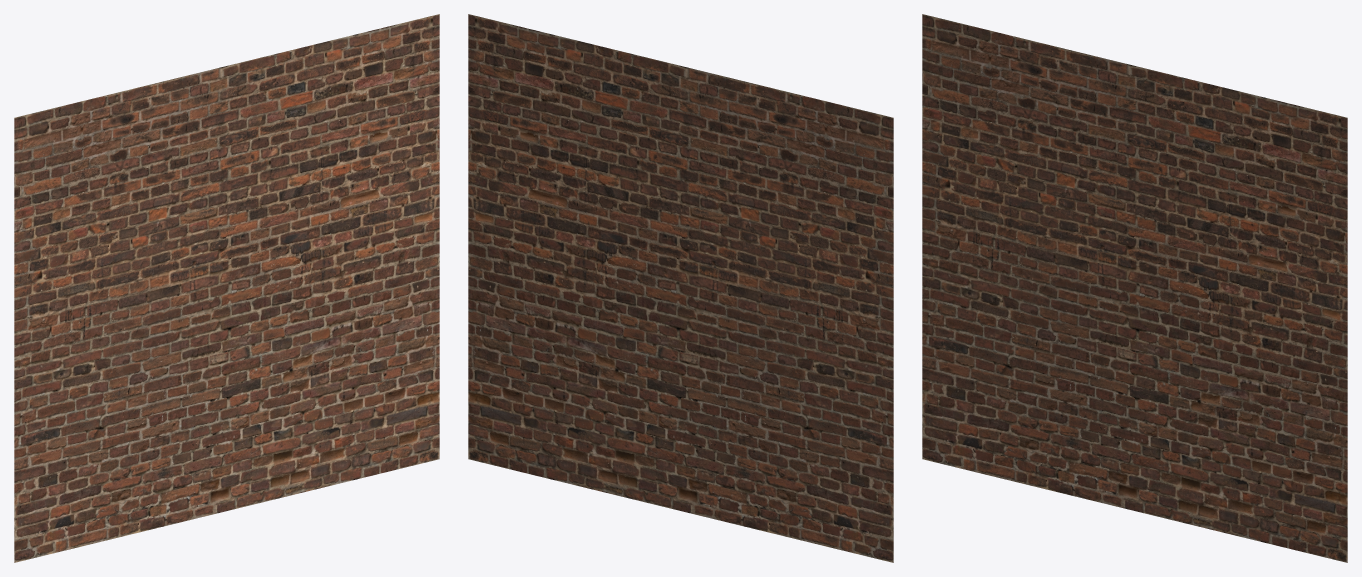
The model's file is bay_blank.gltf.
3 views of the same model, side by side, from view 1: azimuth 30°, elevation 25°; view 2: azimuth 150°, elevation 25°; view 3: azimuth 330°, elevation 25° (orthographic).
Parts seen in each view (by area): view 1: bay_blank; view 2: bay_blank; view 3: bay_blank.
Part boxes in pixels (x1,y1,x2,y2): bay_blank: [14, 14, 439, 562]; bay_blank: [468, 14, 893, 562]; bay_blank: [922, 14, 1347, 562].
Size of the model in its own units: 3 by 3 by 0.
1 material, 1 textured.
